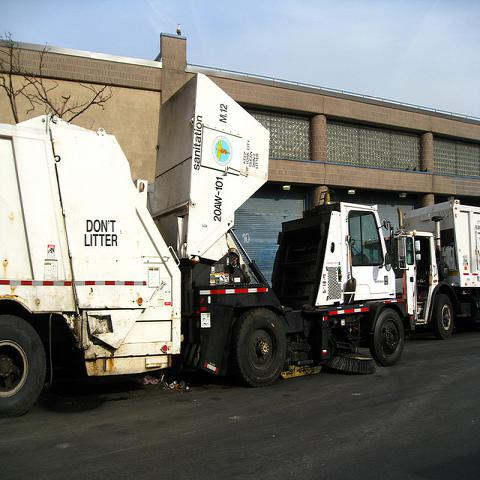truck: (0, 70, 406, 419), (389, 199, 479, 338)
